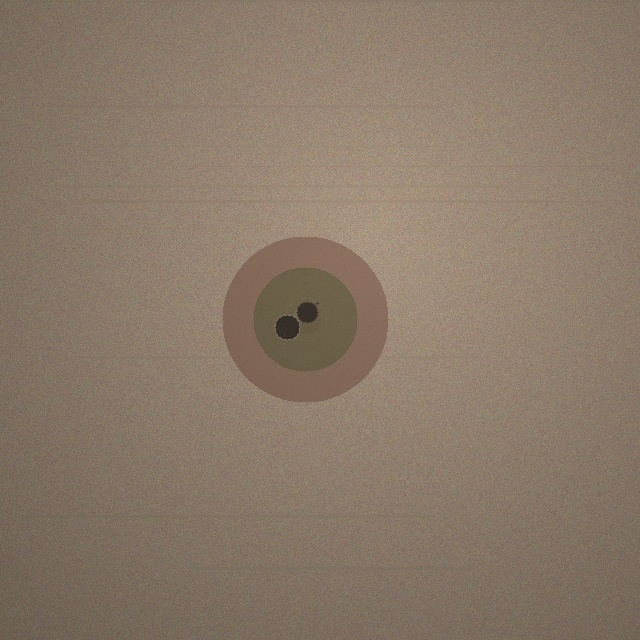shrinkage: (222, 236, 388, 402)
